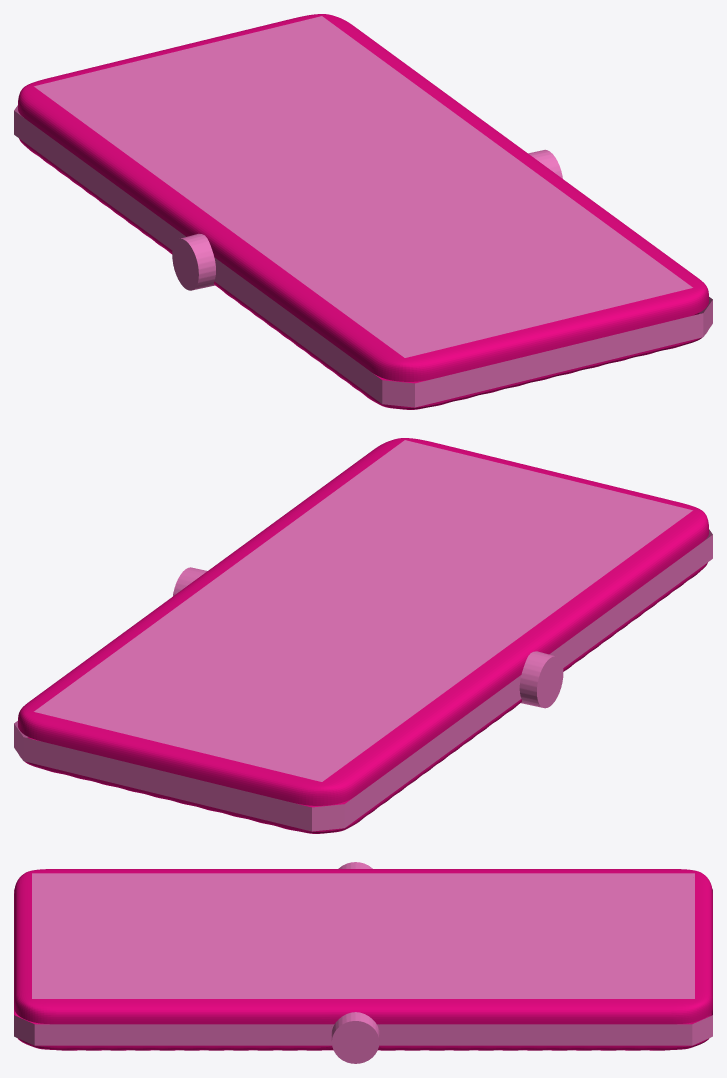
The model's file is seesawPlatform2.fbx.
3 views of the same model, one above another, from view 1: azimuth 30°, elevation 25°; view 2: azimuth 150°, elevation 25°; view 3: azimuth 270°, elevation 25° (orthographic). The views are drawn at different scales.
Parts seen in each view (by area): view 1: Cube.002, Cube, Cube.003, Cylinder; view 2: Cube.002, Cube, Cube.003, Cylinder; view 3: Cube.002, Cube, Cube.003, Cylinder.
Part boxes in pixels (x1,y1,x2,y2): Cube.002: [34, 16, 692, 357]; Cube: [18, 14, 708, 409]; Cube.003: [14, 105, 712, 407]; Cylinder: [172, 149, 562, 290]; Cube.002: [34, 440, 692, 781]; Cube: [18, 438, 708, 833]; Cube.003: [14, 529, 712, 831]; Cylinder: [173, 567, 563, 708]; Cube.002: [32, 873, 694, 998]; Cube: [14, 869, 712, 1050]; Cube.003: [14, 889, 712, 1045]; Cylinder: [331, 862, 379, 1063].
Bounding box in the file's own units: 354 × 54.14 × 658.
